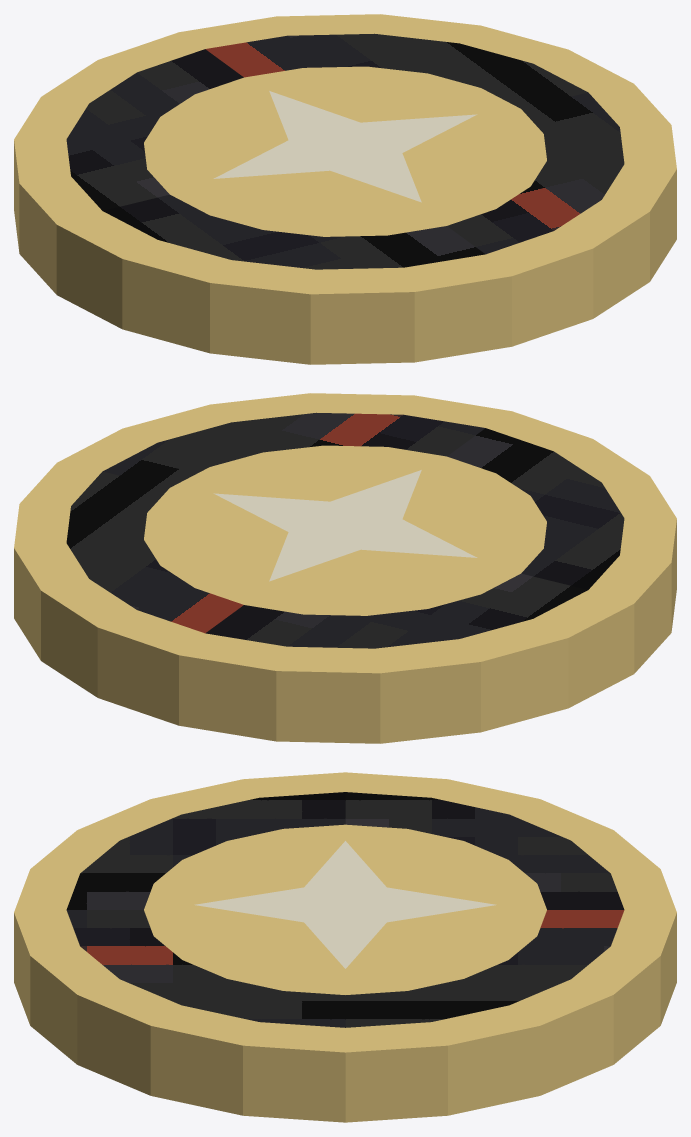
File: moeda_chao.fbx
3 views of the same model, one above another, from view 1: azimuth 30°, elevation 25°; view 2: azimuth 150°, elevation 25°; view 3: azimuth 270°, elevation 25° (orthographic).
Visible parts, largest first — view 1: vulcao_moeda_chao; view 2: vulcao_moeda_chao; view 3: vulcao_moeda_chao.
Boxes of the visible parts, <box> form: vulcao_moeda_chao: <box>14,14,676,364</box>; vulcao_moeda_chao: <box>14,393,676,743</box>; vulcao_moeda_chao: <box>14,772,676,1122</box>.
Size of the model in its own units: 24 by 3.1 by 24.
Materials: 3 (1 with a texture image).
